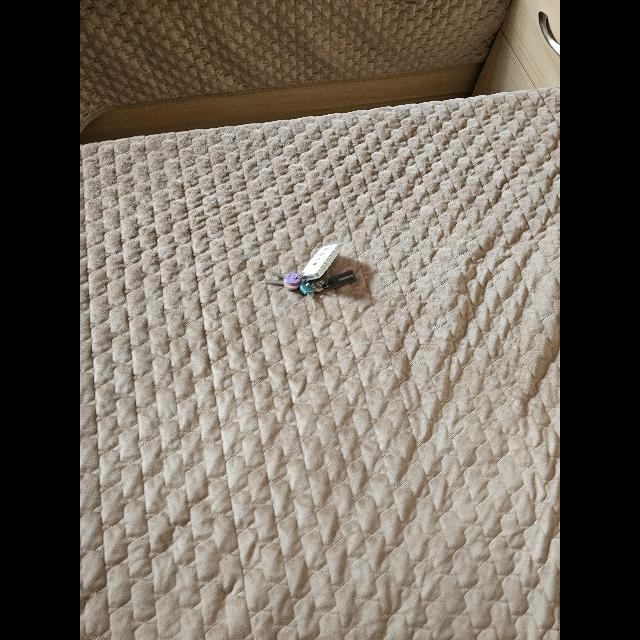Keys: (264, 242, 356, 310)
